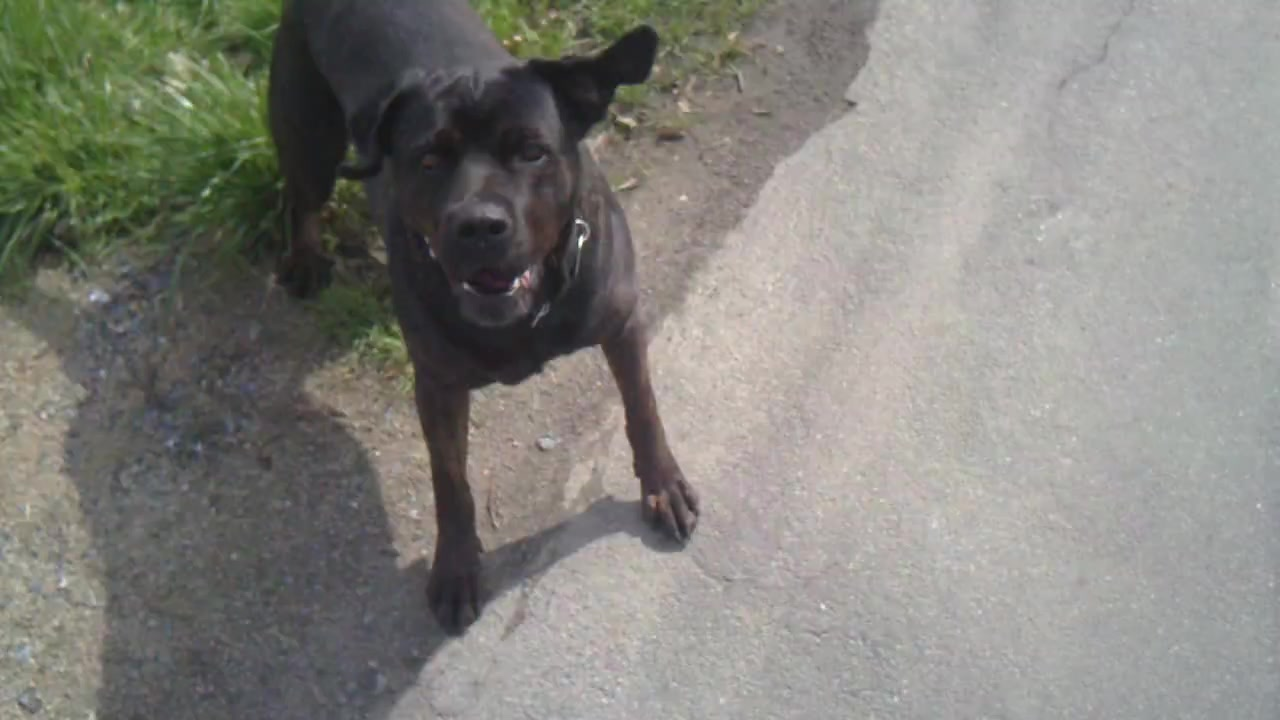dog: (263, 1, 705, 636)
